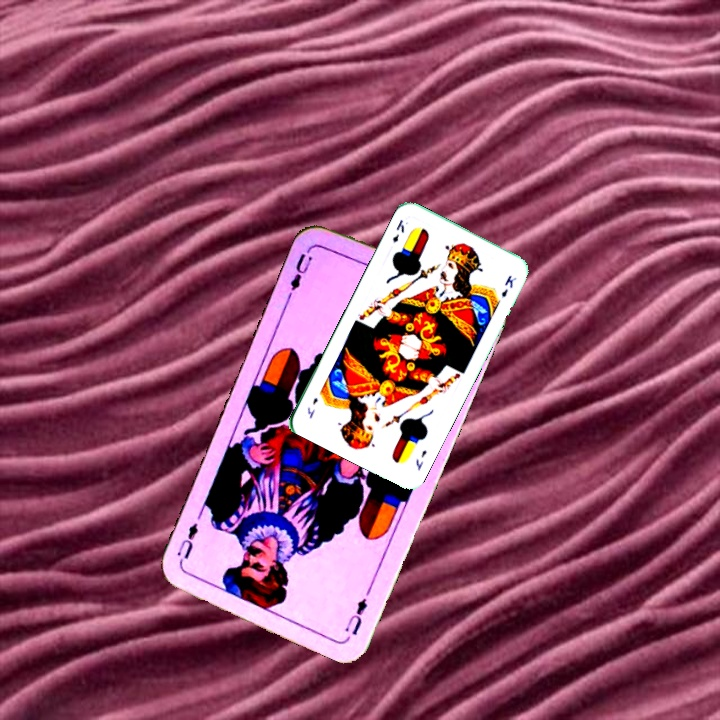EK: (388, 215, 407, 245), (412, 446, 429, 473)
EU: (285, 242, 317, 298), (340, 594, 371, 638)
